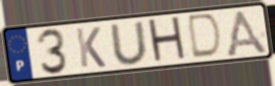3: (35, 27, 69, 76)
A: (223, 8, 271, 57)
D: (187, 12, 224, 61)
H: (146, 14, 190, 66)
K: (74, 25, 108, 70)
U: (108, 19, 151, 67)
